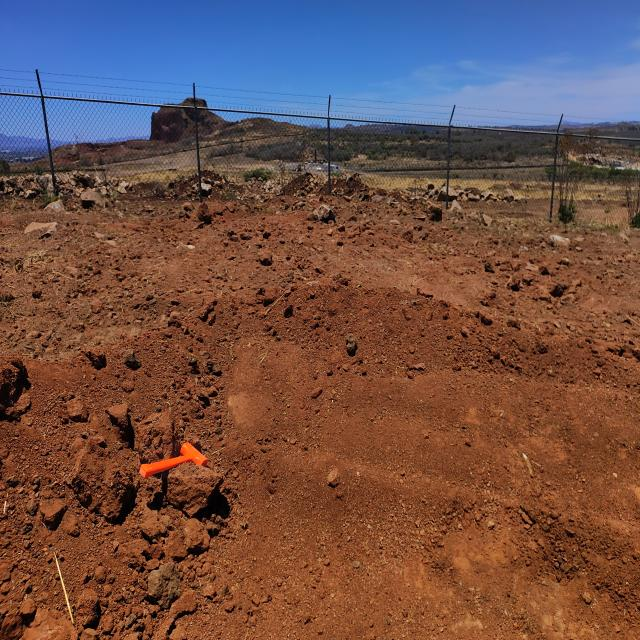Orange_hammer: (138, 441, 208, 478)
